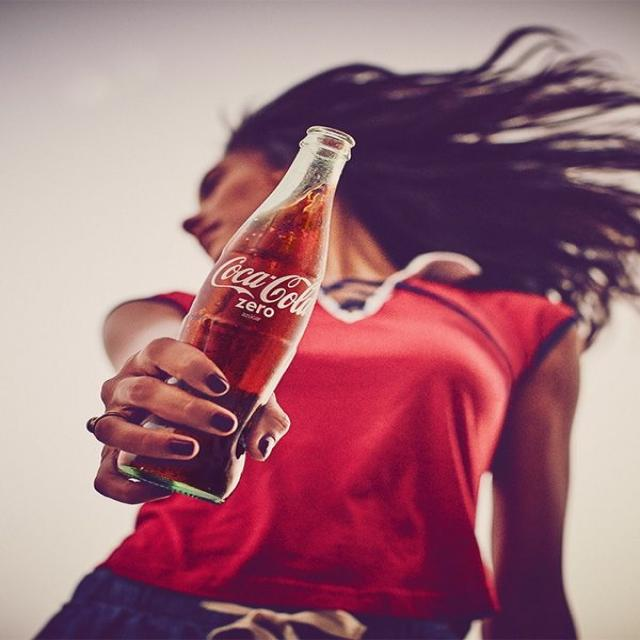coca cola: (206, 250, 319, 321)
